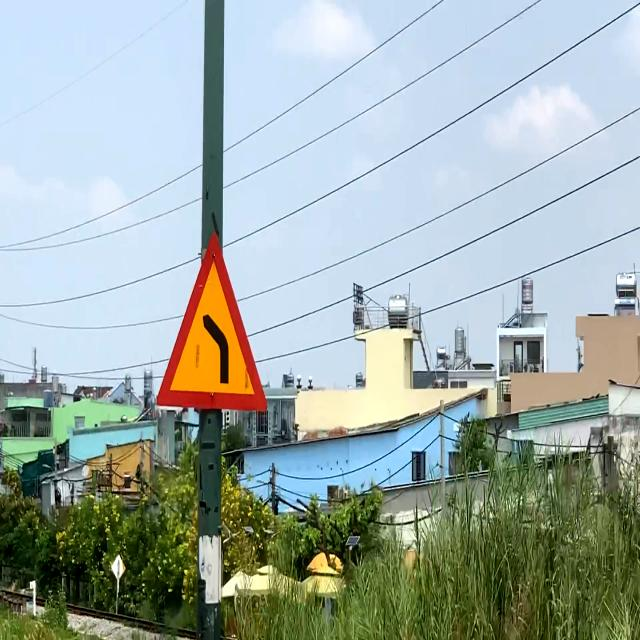W.201a: (151, 222, 275, 434)
